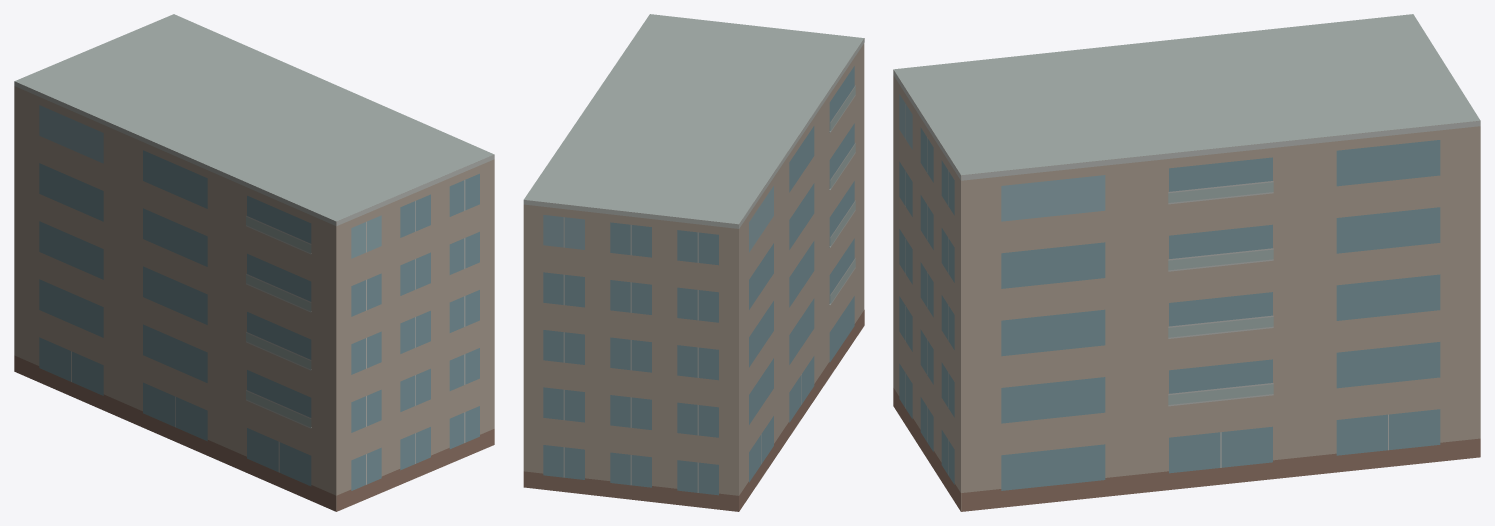
File: survey-upis-32653640.glb
3 renders of one model, left to right at view 1: azimuth 30°, elevation 25°; view 2: azimuth 150°, elevation 25°; view 3: azimuth 270°, elevation 25°, orthographic. The views are drawn at different scales.
Visible parts, largest first — view 1: survey-upis-32653640.tmp; view 2: survey-upis-32653640.tmp; view 3: survey-upis-32653640.tmp.
Boxes of the visible parts, left/top/right/bottom form: survey-upis-32653640.tmp: left=14, top=14, right=494, bottom=511; survey-upis-32653640.tmp: left=523, top=14, right=864, bottom=511; survey-upis-32653640.tmp: left=893, top=14, right=1480, bottom=511.
Size of the model in its own units: 15.32 by 14.9 by 23.57.
